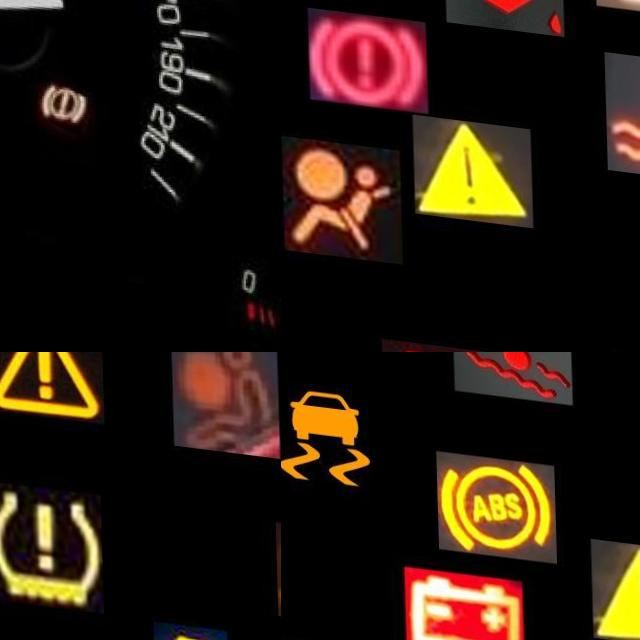Central Warning lamp: (411, 107, 531, 218), (0, 352, 103, 419), (588, 527, 640, 637)
Engine cooling system: (451, 352, 571, 394), (603, 39, 640, 168)
